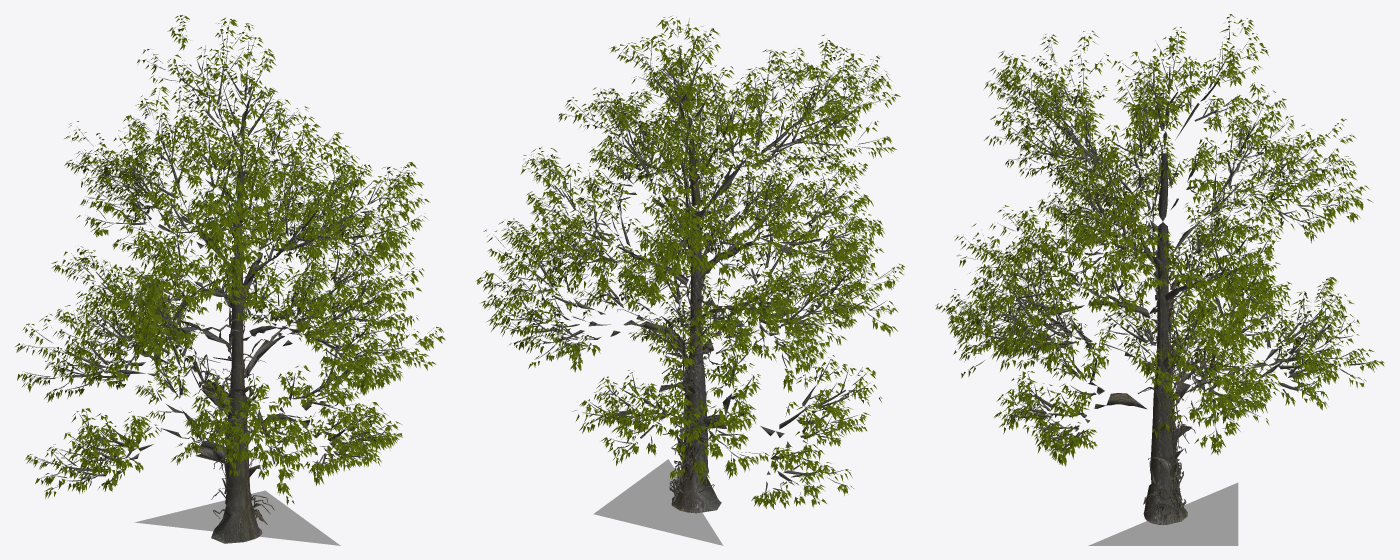
The model's file is arbol_1_lod.glb.
The picture shows the model from 3 angles, left to right: view 1: azimuth 30°, elevation 25°; view 2: azimuth 150°, elevation 25°; view 3: azimuth 270°, elevation 25°; orthographic projection.
Parts seen in each view (by area): view 1: Aesculus_h_2aaaa:Leaf1, group2, pPlane1, enrredadera3:Mesh, enrredadera1:Mesh; view 2: Aesculus_h_2aaaa:Leaf1, group2, pPlane1, enrredadera3:Mesh, enrredadera1:Mesh; view 3: Aesculus_h_2aaaa:Leaf1, group2, pPlane1, enrredadera1:Mesh, enrredadera3:Mesh.
Part boxes in pixels (x1,y1,x2,y2): Aesculus_h_2aaaa:Leaf1: (15,15,445,504); group2: (24,22,433,543); pPlane1: (134,490,340,545); enrredadera3:Mesh: (158,279,259,415); enrredadera1:Mesh: (160,389,274,524); Aesculus_h_2aaaa:Leaf1: (475,16,904,509); group2: (483,17,892,513); pPlane1: (593,459,723,545); enrredadera3:Mesh: (659,237,807,392); enrredadera1:Mesh: (662,363,750,502); Aesculus_h_2aaaa:Leaf1: (935,14,1384,466); group2: (946,19,1372,524); pPlane1: (1088,482,1238,545); enrredadera1:Mesh: (1143,370,1228,520); enrredadera3:Mesh: (1113,220,1244,402).
Bounding box in the file's own units: 20.32 × 26.48 × 22.2.
3 materials, 2 textured.
